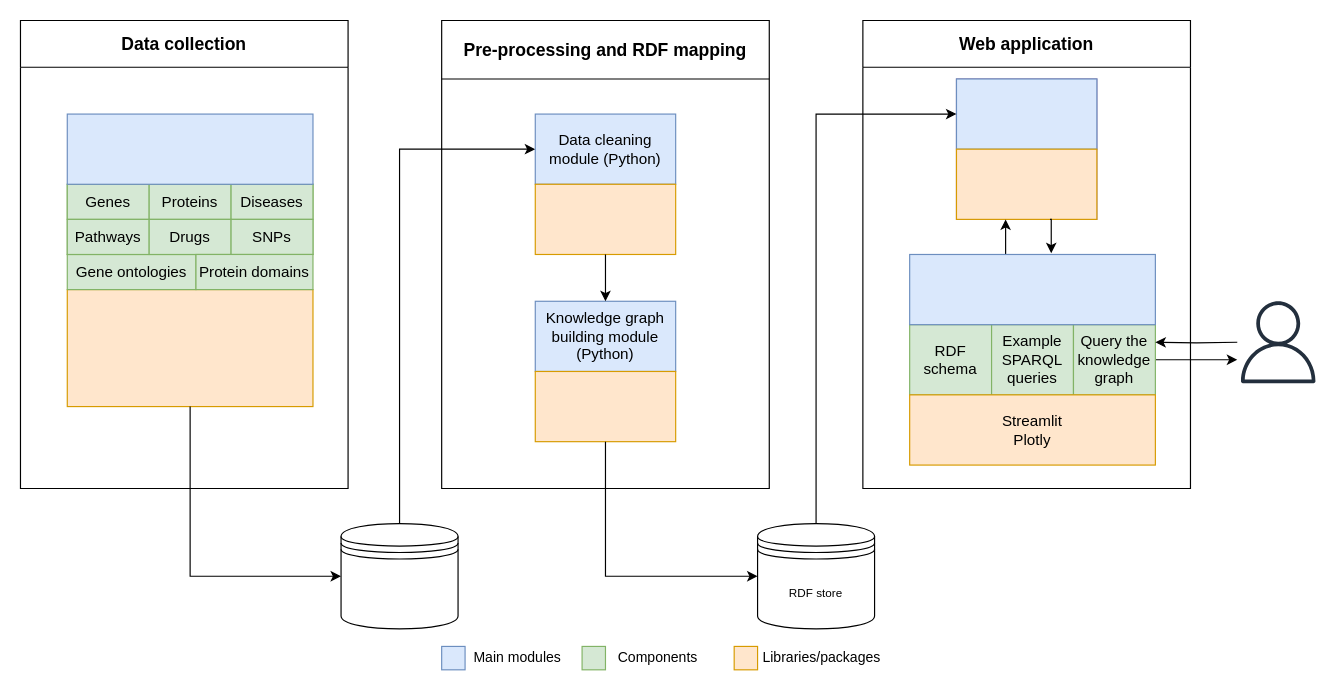
Some shapes in this 1340 by 696 pixel diagram are drawn without their labels. The shapes that lost their labels are listed below. From the top down, each one's centre as x and y in pixels, then its label:
At (1026,113): "Back end (Python)".
At (189,148): "Data mining module (R)".
At (1026,183): "RDFLib SPARQL Pandas".
At (605,218): "Numpy Pandas".
At (1032,289): "Front end (Python)".
At (189,347): "BiomaRt KEGGREST clusterProfiler ReactomePA drugbankR disgenet2r".
At (1278,342): "End user".
At (605,406): "RDFLib Pandas kglab".
At (399,575): "CSV datasets".
